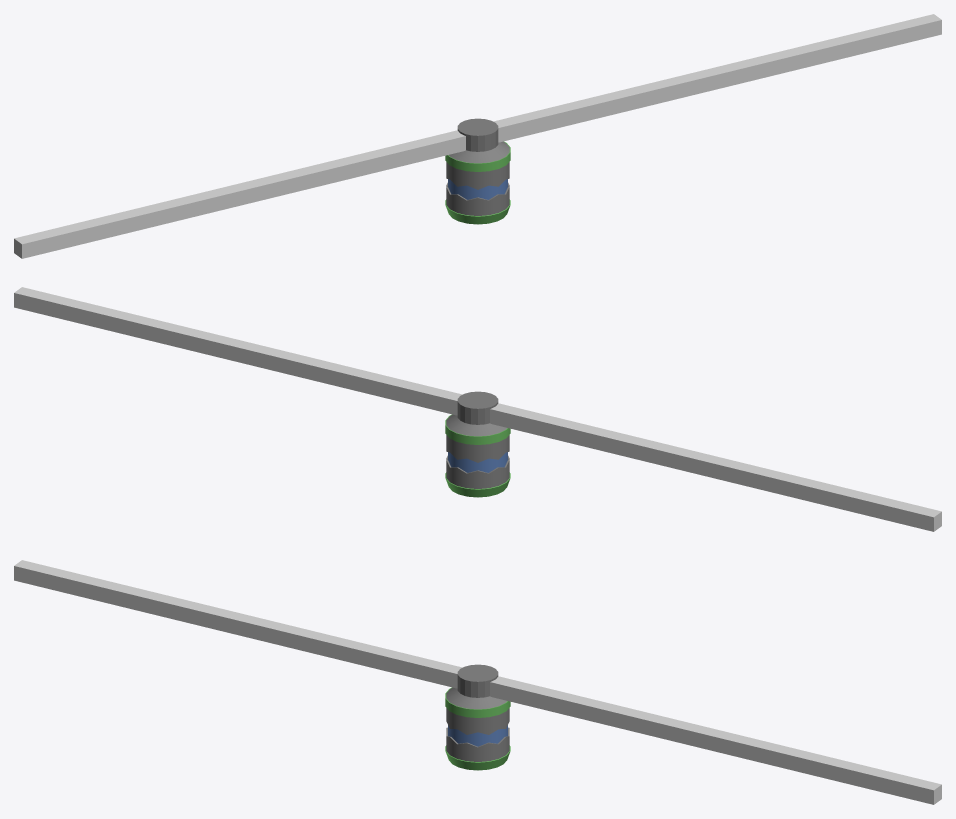
Rendered from SpotLightEau.FBX.
3 views of the same model, one above another, from view 1: azimuth 30°, elevation 25°; view 2: azimuth 150°, elevation 25°; view 3: azimuth 330°, elevation 25° (orthographic).
Visible parts, largest first — view 1: Rail, Spotlight; view 2: Rail, Spotlight; view 3: Rail, Spotlight.
Part boxes in pixels (left/top/right/bottom): Rail: left=14, top=14, right=941, bottom=258; Spotlight: left=445, top=118, right=510, bottom=224; Rail: left=14, top=287, right=941, bottom=531; Spotlight: left=445, top=391, right=510, bottom=497; Rail: left=14, top=560, right=941, bottom=804; Spotlight: left=445, top=664, right=510, bottom=770.
Bounding box in the file's own units: 2593 × 243 × 159.
3 materials, 3 textured.
